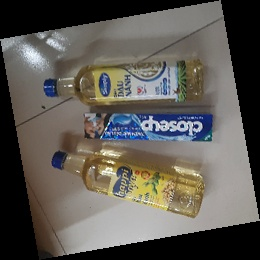CloseUp Tuyet: (82, 111, 214, 143)
Happy Soya: (50, 151, 206, 220)
Simply: (41, 58, 206, 108)
